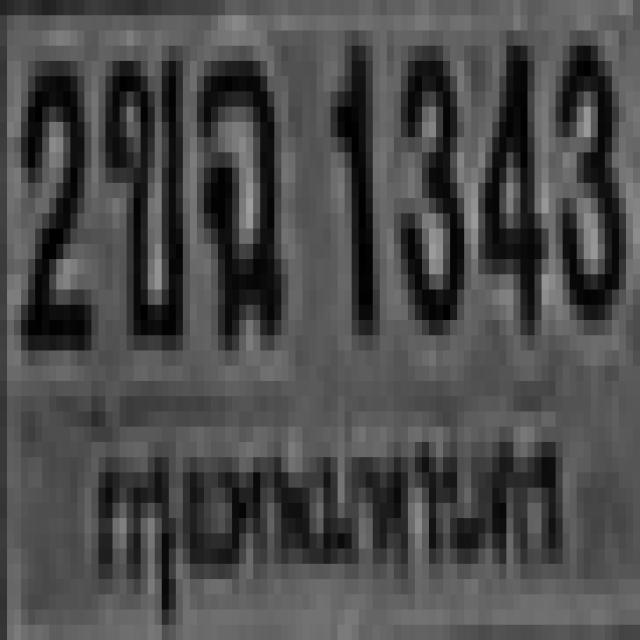1: (327, 30, 369, 320)
11KhorKhai: (98, 46, 183, 335)
18ChorChing: (193, 46, 278, 335)
2: (14, 53, 84, 343)
3: (394, 30, 457, 320), (556, 23, 619, 312)
4: (478, 30, 542, 320)
Bangkok: (85, 414, 571, 636)
